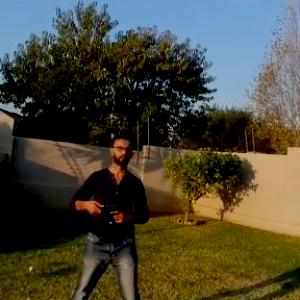follow: (59, 128, 154, 299)
